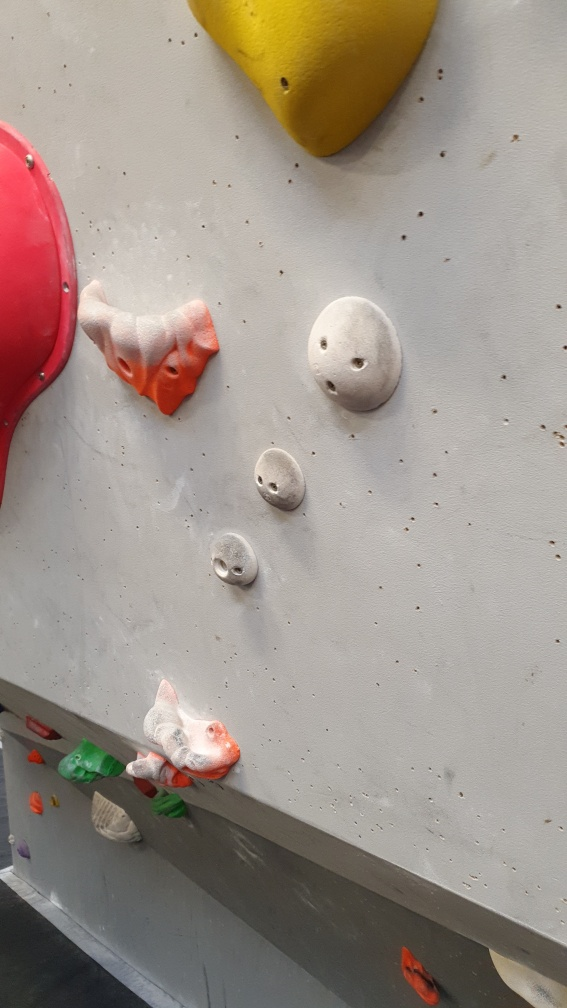Jug: (78, 278, 226, 423), (139, 676, 248, 790)
Sloper: (306, 292, 406, 418), (251, 444, 307, 512), (206, 527, 260, 594)
